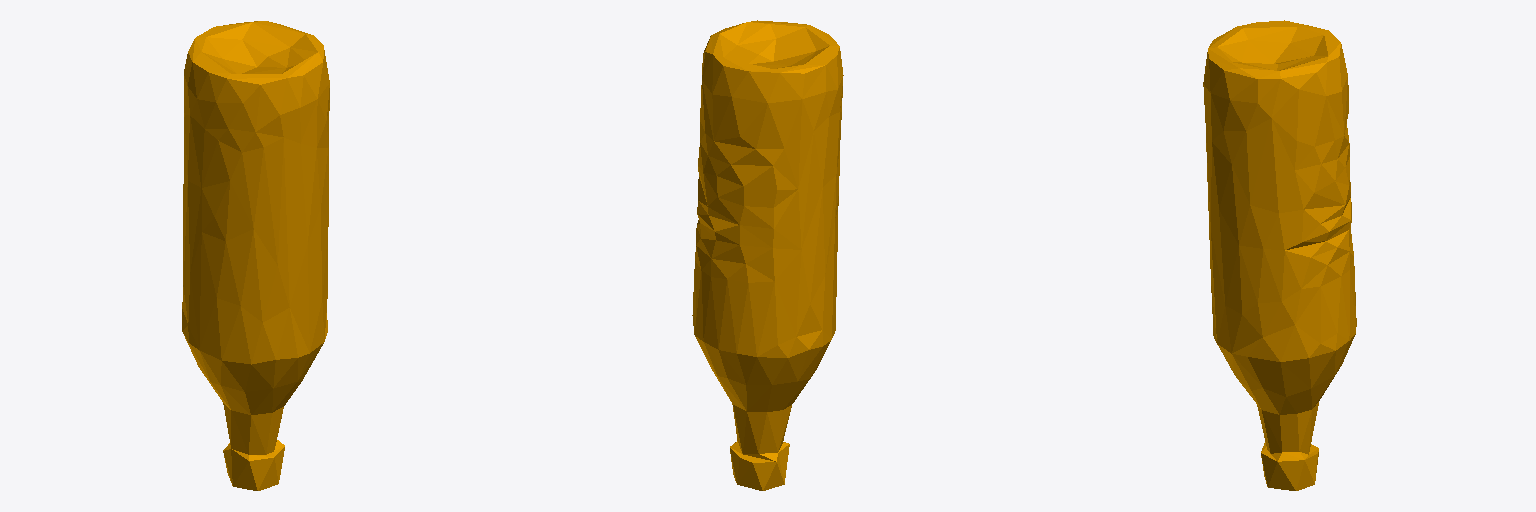
The robot description file, URDF, robot "MelforBottle_800_tex":
<?xml version="1.0"?>
<robot name="MelforBottle_800_tex">
  <link name="base_link">
    <contact>
      <lateral_friction value="1.0"/>
      <rolling_friction value="0.0"/>
      <contact_cfm value="0.0"/>
      <contact_erp value="1.0"/>
    </contact>
    <inertial>
      <mass value="0.102053799341"/>
      <inertia ixx="1" ixy="0" ixz="0" iyy="1" iyz="0" izz="1"/>
    </inertial>
    <visual>
      <geometry>
        <mesh filename="MelforBottle_800_tex_visual.obj"/>
      </geometry>
    </visual>
    <collision>
      <geometry>
        <mesh filename="MelforBottle_800_tex_collision.obj"/>
      </geometry>
    </collision>
  </link>
</robot>

--- What the picture shows (computed from the rendered views, not written in the file) ---
Views: 3 orthographic renders of the robot side by side, from view 1: azimuth 30°, elevation 25°; view 2: azimuth 150°, elevation 25°; view 3: azimuth 270°, elevation 25°.
Model MelforBottle_800_tex with 1 links and 0 joints (none), rooted at base_link, posed all joints at 0.
Visible links, largest first — view 1: base_link; view 2: base_link; view 3: base_link.
Boxes of the visible links, left/top/right/bottom form: base_link: left=182, top=21, right=329, bottom=490; base_link: left=692, top=20, right=843, bottom=490; base_link: left=1203, top=20, right=1356, bottom=490.
Size in the robot's own frame: 0.0434 by 0.045 by 0.1404 metres.
Meshes: 1 distinct files referenced, 1 mesh visuals loaded (1 OBJ).